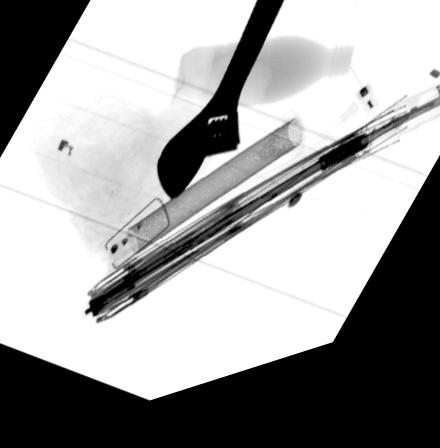Wrench: (153, 0, 291, 212)
